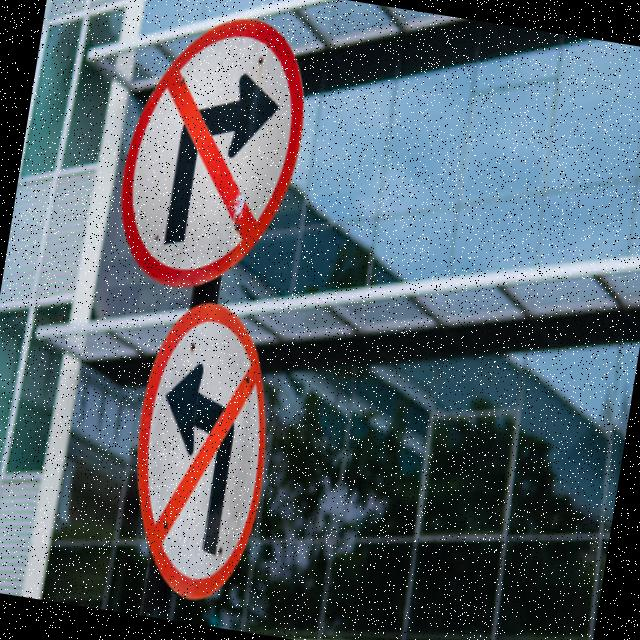do_not_turn_right: (96, 0, 333, 311)
